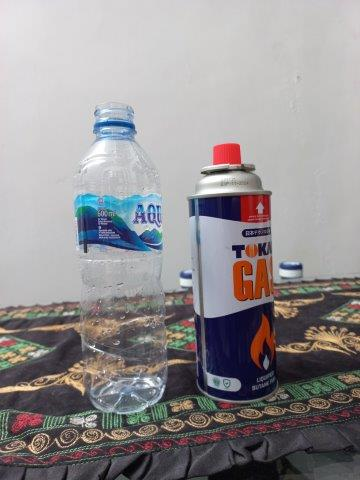botolplastik: (73, 103, 167, 415)
kaleng: (187, 144, 284, 395)
